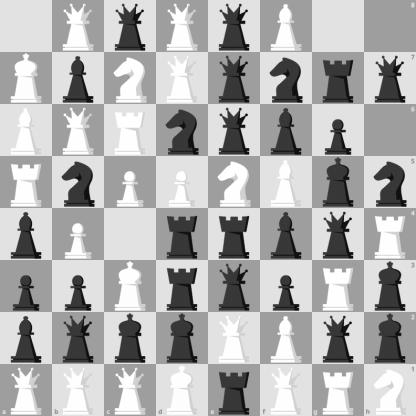B: (1, 105, 52, 156), (261, 1, 312, 52), (261, 157, 312, 208), (261, 313, 312, 364)
K: (156, 364, 209, 416), (1, 53, 52, 104), (105, 261, 156, 312)
N: (364, 364, 416, 416), (105, 53, 156, 104), (209, 157, 260, 208)
P: (53, 209, 104, 260), (105, 157, 156, 208), (157, 157, 208, 208)
Q: (0, 364, 52, 416), (52, 364, 104, 416), (104, 364, 156, 416), (260, 364, 312, 416), (53, 1, 104, 52), (53, 105, 104, 156), (157, 1, 208, 52), (157, 53, 208, 104), (209, 313, 260, 364)
R: (312, 364, 364, 416), (364, 209, 416, 260), (1, 157, 52, 208), (105, 105, 156, 156), (313, 261, 364, 312)
b: (1, 209, 52, 260), (1, 313, 52, 364), (53, 53, 104, 104), (261, 105, 312, 156), (261, 209, 312, 260)
board: (0, 0, 415, 415)
k: (364, 260, 416, 312), (364, 312, 416, 364), (105, 313, 156, 364), (157, 313, 208, 364), (313, 157, 364, 208)
n: (364, 156, 416, 209), (53, 157, 104, 208), (157, 105, 208, 156), (261, 53, 312, 104)
p: (1, 261, 52, 312), (53, 261, 104, 312), (261, 261, 312, 312), (313, 105, 364, 156)
q: (364, 52, 416, 104), (53, 313, 104, 364), (105, 1, 156, 52), (209, 1, 260, 52), (209, 53, 260, 104), (209, 105, 260, 156), (209, 261, 260, 312), (313, 209, 364, 260), (313, 313, 364, 364)
r: (209, 364, 260, 416), (157, 209, 208, 260), (157, 261, 208, 312), (209, 209, 260, 260), (313, 53, 364, 104)
